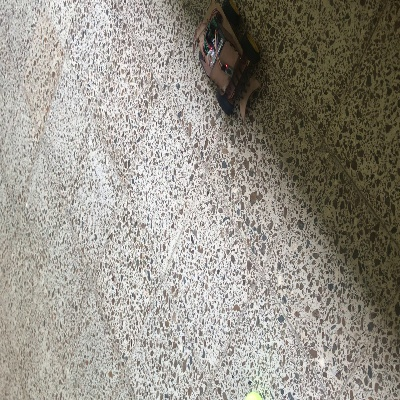Robot: (195, 0, 262, 117)
